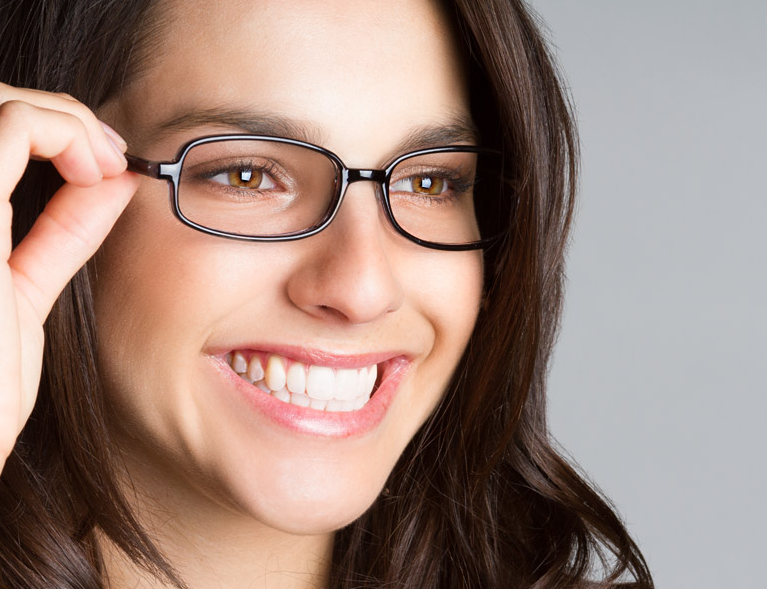glass: (83, 114, 541, 269)
mouth: (192, 329, 439, 447)
